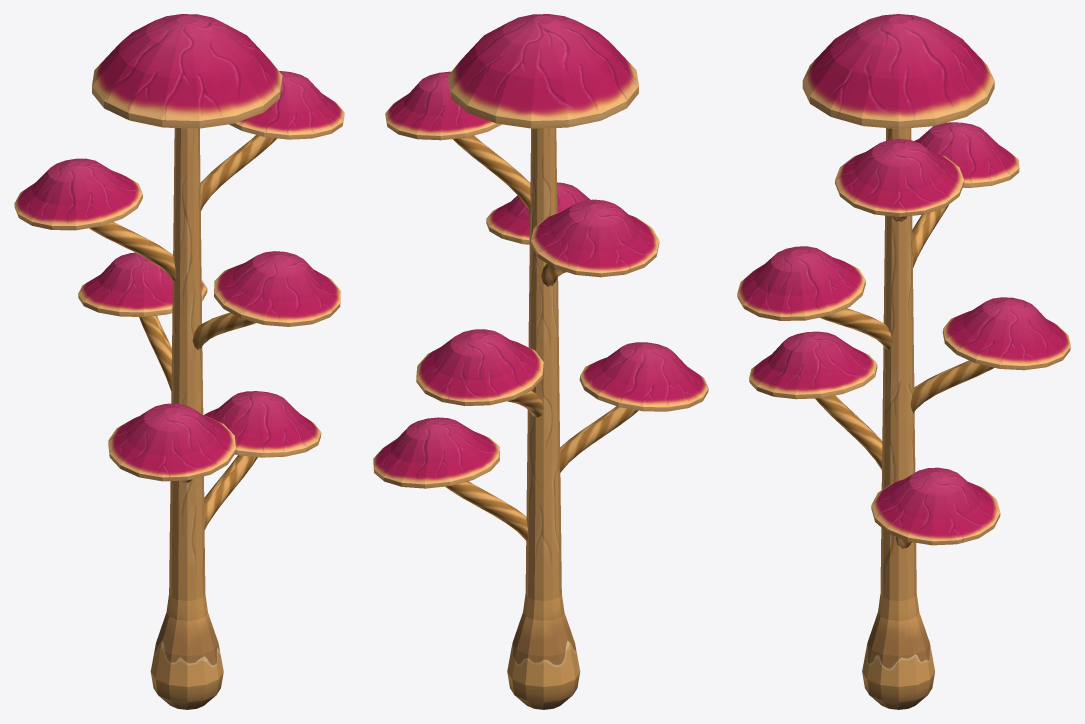
Rendered from Mushroom3.fbx.
3 renders of one model, left to right at view 1: azimuth 30°, elevation 25°; view 2: azimuth 150°, elevation 25°; view 3: azimuth 270°, elevation 25°, orthographic.
Parts seen in each view (by area): view 1: Mushroom3; view 2: Mushroom3; view 3: Mushroom3.
Part boxes in pixels (x1,y1,x2,y2): Mushroom3: (14, 14, 344, 709); Mushroom3: (373, 14, 708, 709); Mushroom3: (737, 14, 1070, 709).
Bounding box in the file's own units: 550 × 1258 × 558.
Materials: 1 (1 with a texture image).
